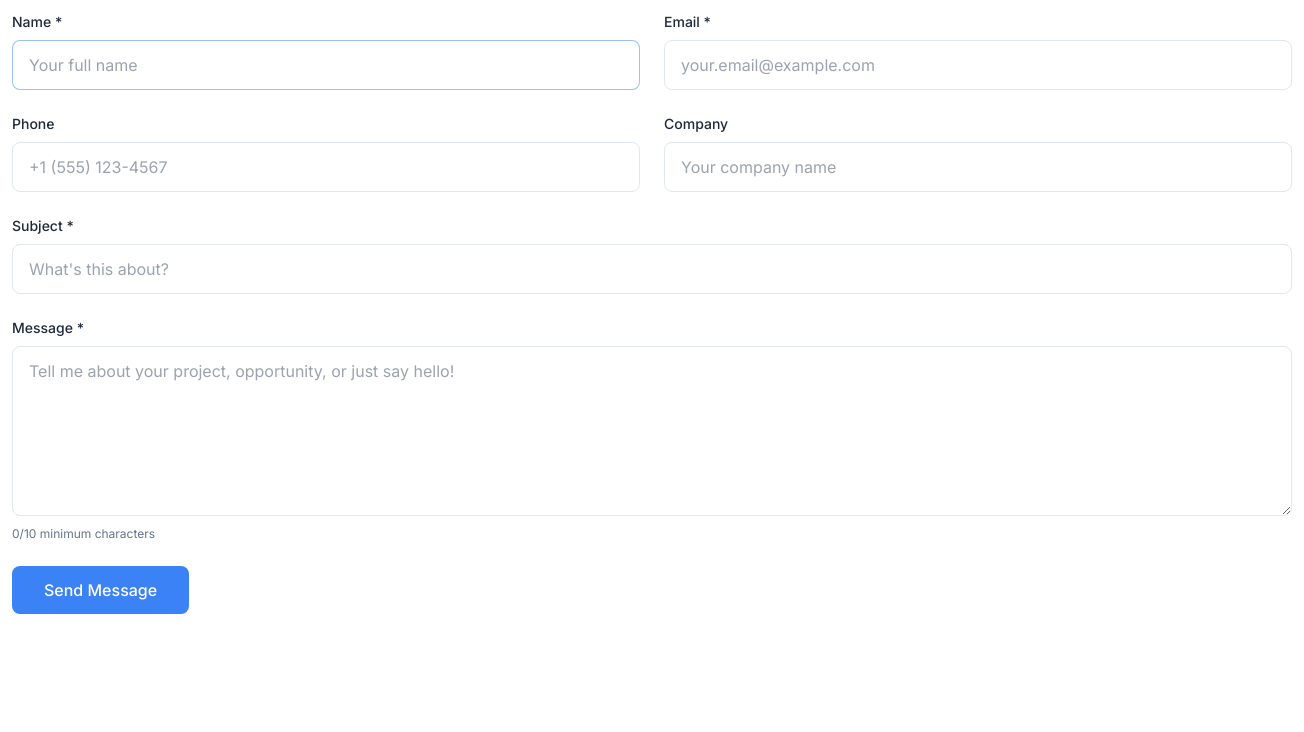
it: ContactForm › Form Validation › clears errors when user starts typing
Step 1. Click the button "Send Message" → (101, 590), box [12,566,189,614]
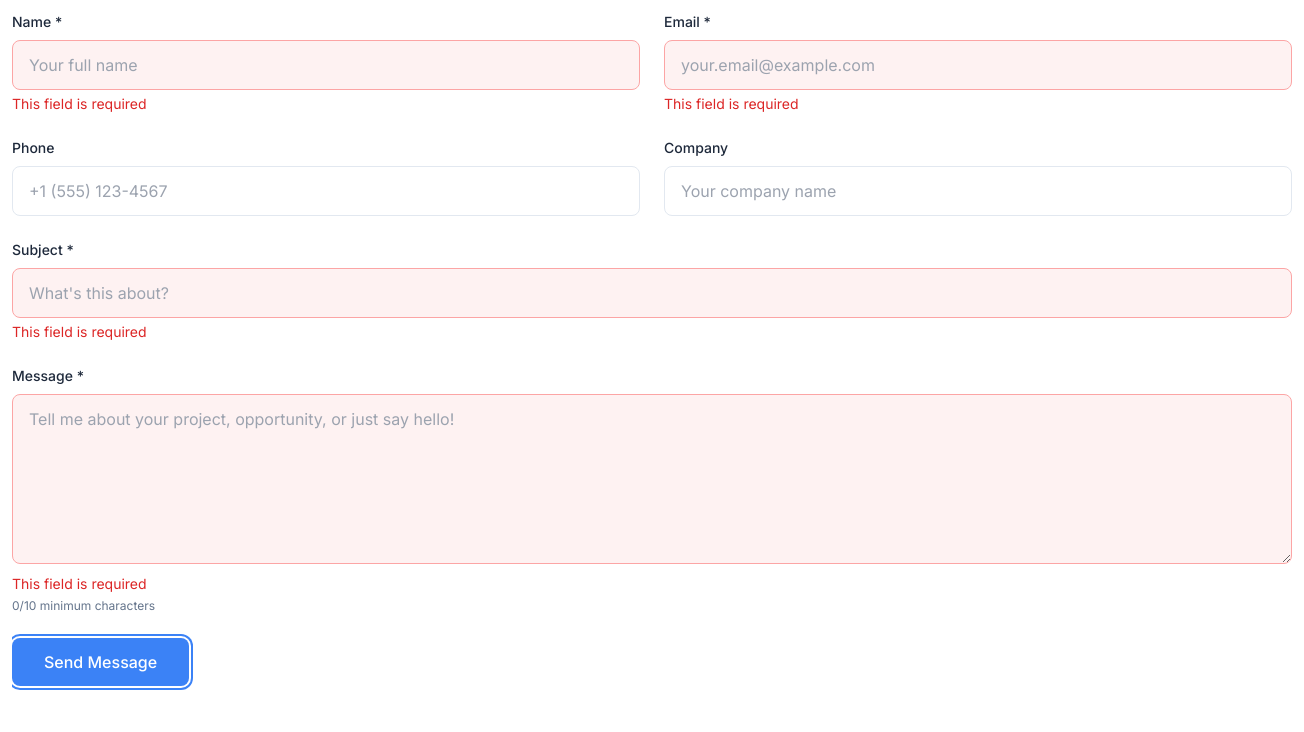
Expected: the text "This field is required" is shown 4 times, [12,95,147,112]; [664,95,799,112]; [12,323,147,340]; [12,575,147,592]
Step 2. Type "John Doe" into the field labelled "Name *" → (326, 65), box [12,40,640,90]
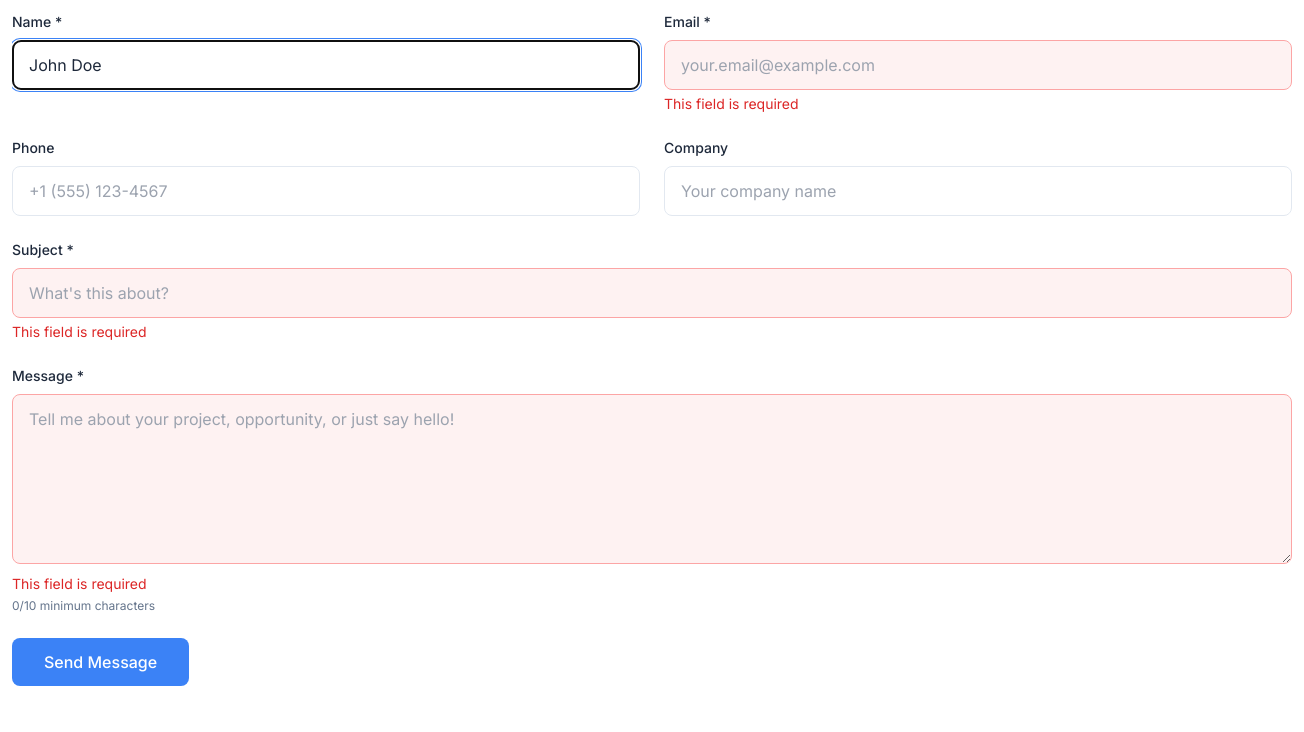
Expected: the text "This field is required" is shown 3 times, [664,95,799,112]; [12,323,147,340]; [12,575,147,592]
